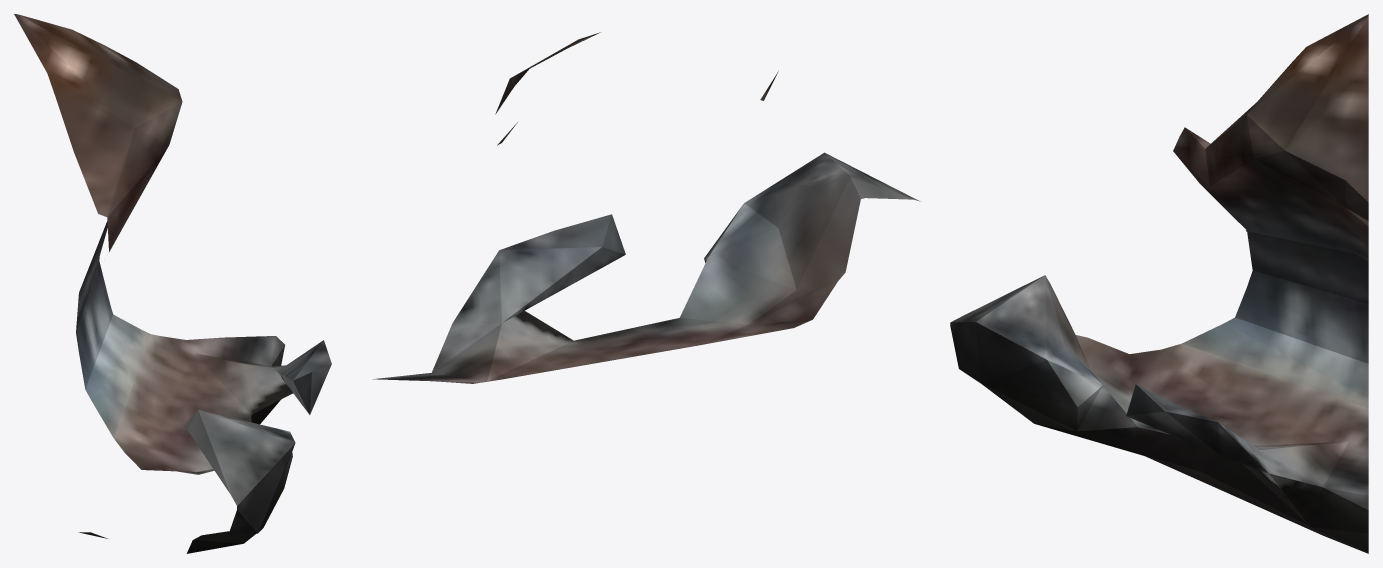
3 views of the same model, side by side, from view 1: azimuth 30°, elevation 25°; view 2: azimuth 150°, elevation 25°; view 3: azimuth 270°, elevation 25° (orthographic). The views are drawn at different scales.
Bounding box in the file's own units: 0.2162 × 0.3703 × 0.308.
Materials: 1 (1 with a texture image).
